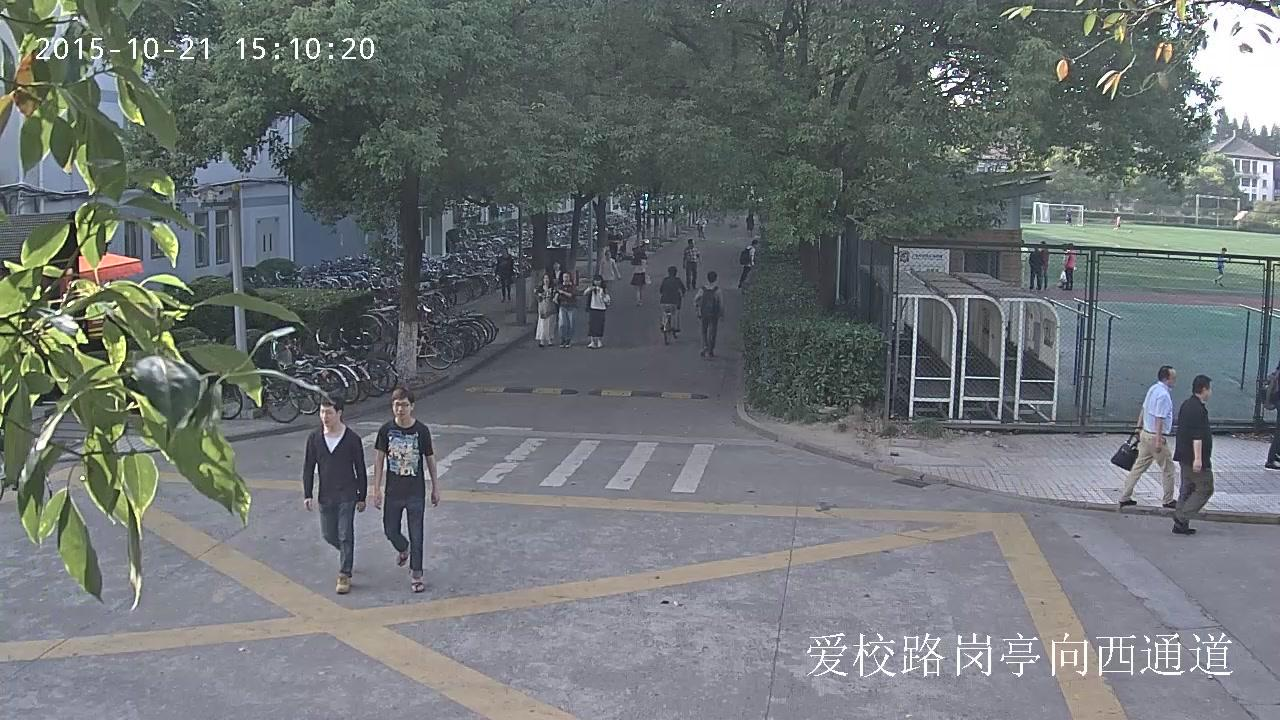face: (320, 403, 337, 426), (393, 397, 410, 417), (1168, 368, 1176, 386), (1205, 381, 1211, 400), (542, 275, 548, 283), (563, 273, 568, 281), (594, 280, 601, 285), (554, 263, 558, 268), (607, 251, 610, 257), (502, 248, 505, 253), (1222, 250, 1225, 254), (692, 240, 694, 245), (754, 244, 758, 246)
